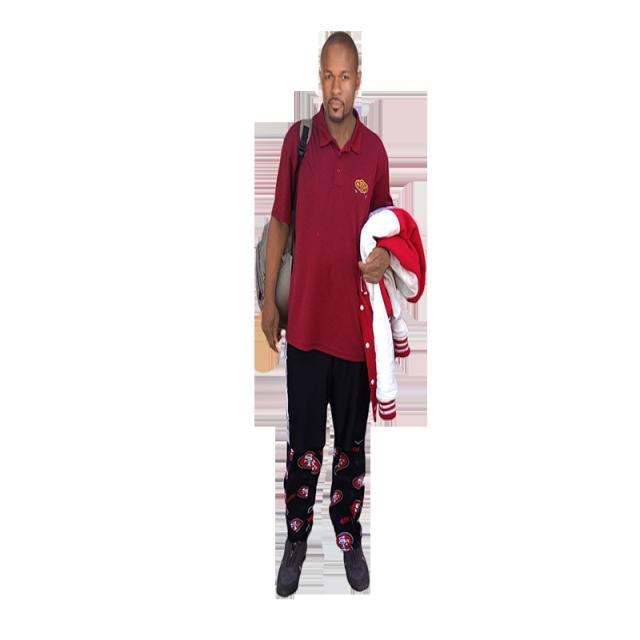jovem: (253, 12, 385, 591)
